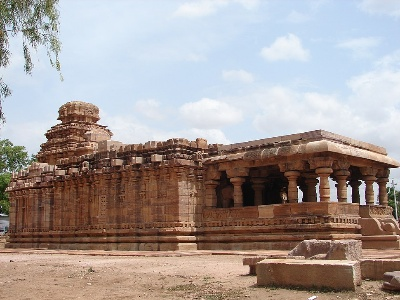gopuram: (23, 96, 120, 166)
mandapa: (199, 132, 390, 219)
